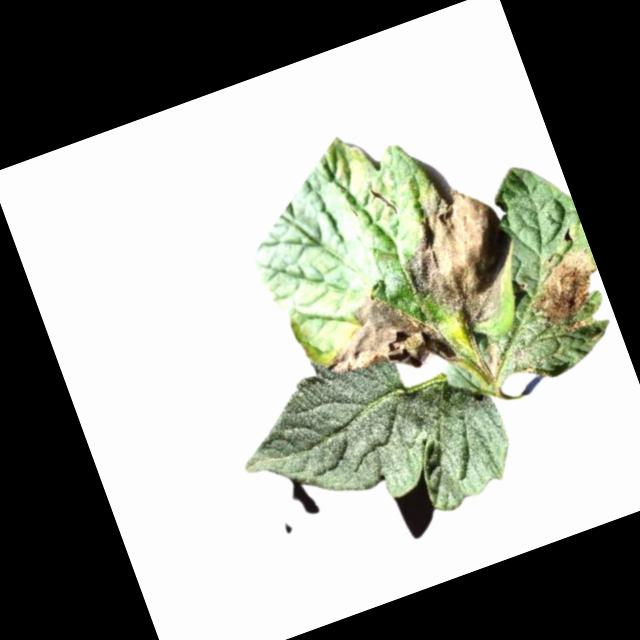Late_blight: (377, 165, 535, 347), (307, 273, 460, 404), (515, 242, 611, 332), (477, 338, 508, 380), (558, 313, 596, 335)
healthy: (221, 326, 525, 573)
